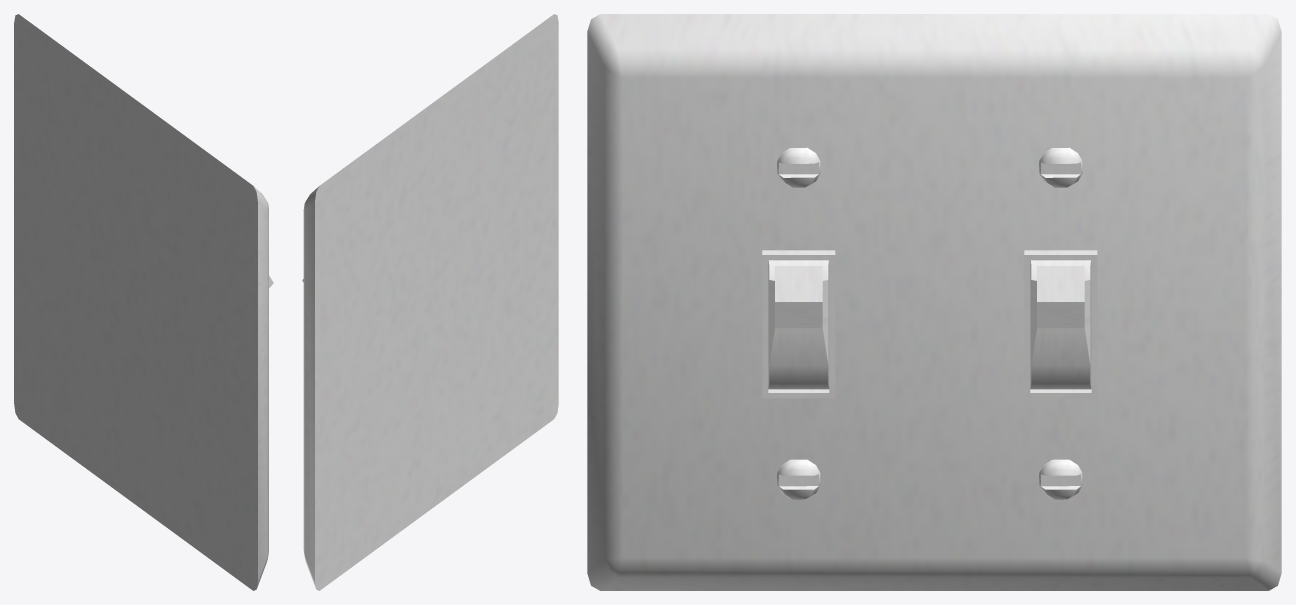
File: Switch White Dou.fbx
The picture shows the model from 3 angles, left to right: view 1: azimuth 30°, elevation 25°; view 2: azimuth 150°, elevation 25°; view 3: azimuth 270°, elevation 25°; orthographic projection. The views are drawn at different scales.
Visible parts, largest first — view 1: Switch White Dou; view 2: Switch White Dou; view 3: Switch White Dou.
Boxes of the visible parts, x1=… form: Switch White Dou: x1=14, y1=14, x2=273, y2=590; Switch White Dou: x1=302, y1=14, x2=558, y2=590; Switch White Dou: x1=587, y1=14, x2=1281, y2=590.
Bounding box in the file's own units: 3.37 × 15.93 × 17.38.
